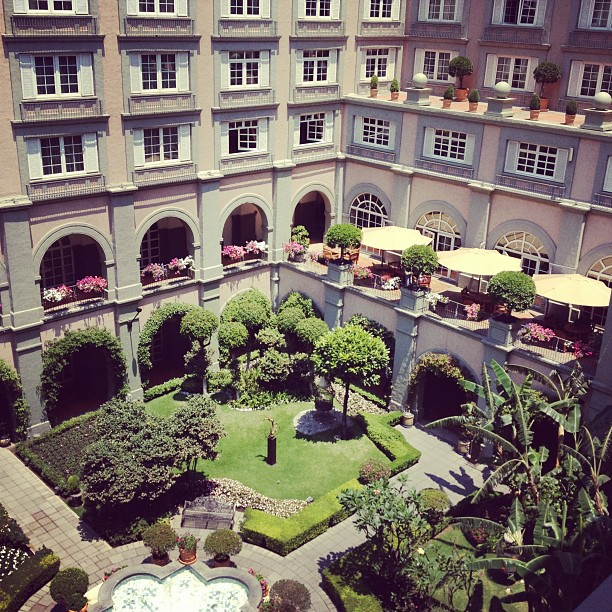building: (1, 1, 612, 338)
vegetation: (23, 301, 407, 534), (411, 395, 612, 612)
